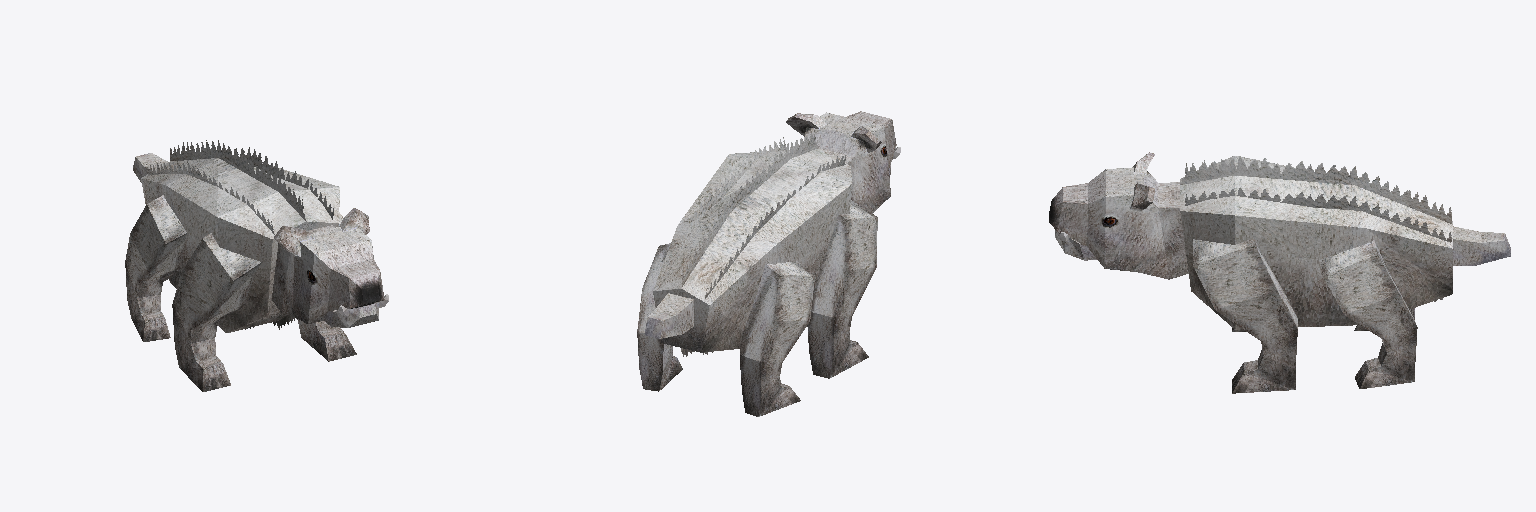
The picture shows the model from 3 angles: view 1: azimuth 30°, elevation 25°; view 2: azimuth 150°, elevation 25°; view 3: azimuth 270°, elevation 25°; orthographic projection.
Visible parts, largest first — view 1: Body, Head, LegRightFront, LegRightBack, LegLeftFront, Mouth; view 2: Body, LegRightFront, LegRightBack, Head, LegLeftBack, Tail; view 3: Body, Head, LegLeftFront, LegLeftBack, Tail, Mouth.
Part boxes in pixels (x1,y1,x2,y2): Body: (141, 140, 339, 332); Head: (272, 208, 384, 323); LegRightFront: (172, 233, 261, 391); LegRightBack: (125, 195, 186, 341); LegLeftFront: (298, 212, 356, 361); Mouth: (322, 294, 388, 327); Body: (653, 131, 851, 356); LegRightFront: (807, 200, 877, 378); LegRightBack: (740, 261, 814, 416); Head: (786, 111, 896, 213); LegLeftBack: (637, 243, 682, 391); Tail: (645, 293, 693, 338); Body: (1180, 156, 1452, 329); Head: (1049, 152, 1188, 279); LegLeftFront: (1193, 238, 1297, 393); LegLeftBack: (1319, 240, 1417, 388); Tail: (1453, 226, 1510, 265); Mouth: (1055, 230, 1096, 260).
Size of the model in its own units: 1.63 by 2.03 by 4.23.
2 materials, 1 textured.